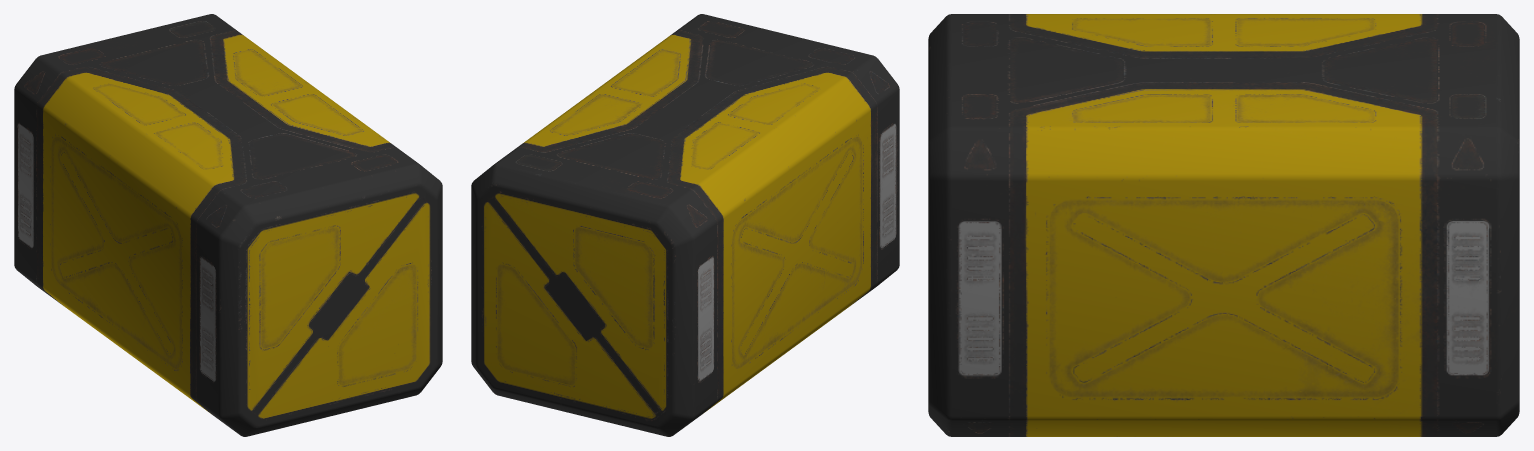
The model's file is SciFi box.obj.
3 views of the same model, side by side, from view 1: azimuth 30°, elevation 25°; view 2: azimuth 150°, elevation 25°; view 3: azimuth 270°, elevation 25° (orthographic). The views are drawn at different scales.
Visible parts, largest first — view 1: Box; view 2: Box; view 3: Box.
Boxes of the visible parts, <box> form: Box: <box>14,14,442,436</box>; Box: <box>471,14,899,436</box>; Box: <box>928,14,1519,436</box>.
Bounding box in the file's own units: 220 × 218 × 377.
Materials: 1 (1 with a texture image).
